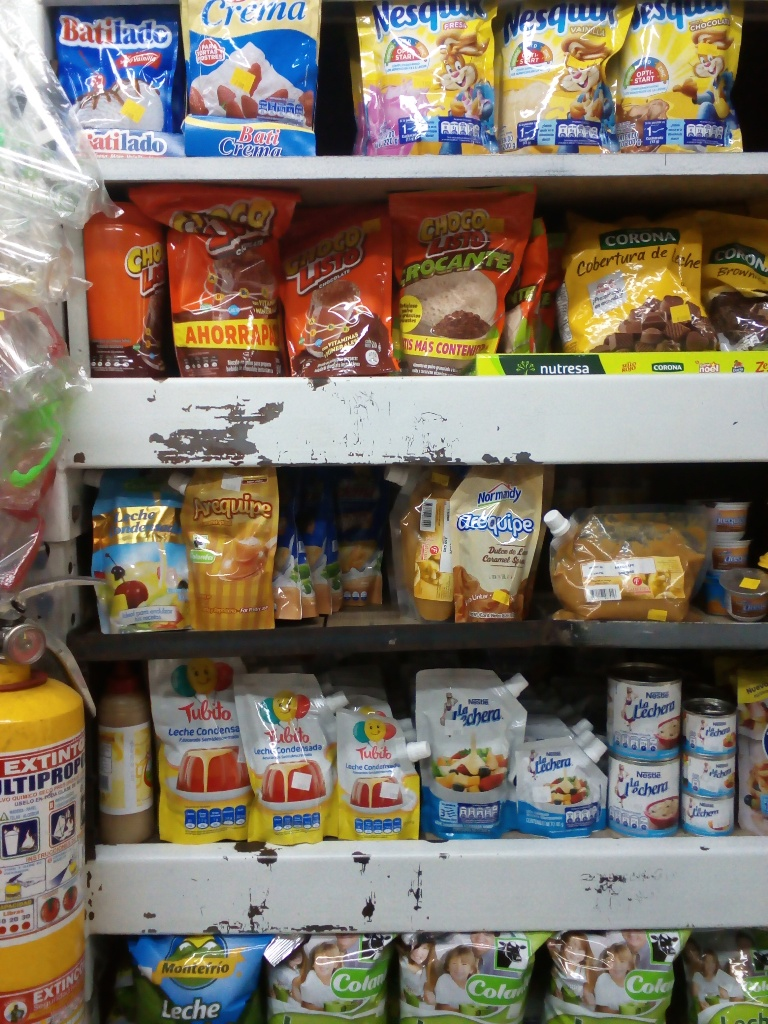COL0170102DYP25000: (386, 186, 518, 375)
COL0170103DYP20000: (280, 201, 402, 376)
COL0170103DYP36000: (144, 186, 298, 377)
COL0170103TRR30000: (83, 200, 173, 378)
COL0170303DYP20000: (619, 3, 750, 154)
COL0170305DYP20000: (353, 0, 502, 158)
COL0170306DYP20000: (496, 0, 634, 154)
